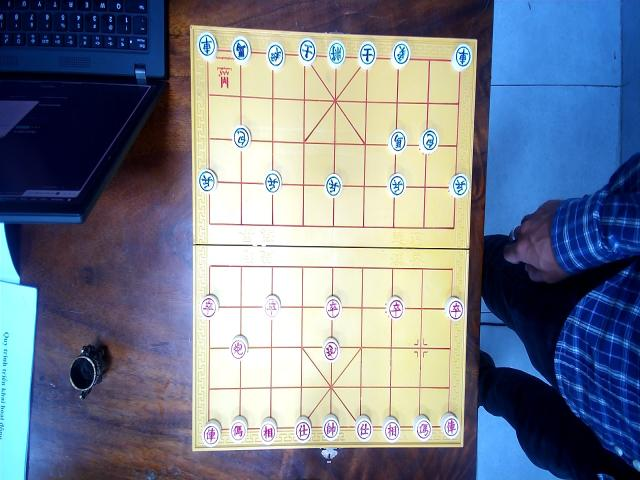piece: (196, 31, 218, 61), (451, 43, 473, 72), (231, 36, 251, 66), (448, 172, 470, 199), (326, 39, 346, 68), (390, 41, 410, 69), (357, 40, 377, 68), (266, 41, 285, 70), (202, 420, 222, 447), (440, 412, 460, 439), (229, 415, 248, 443), (444, 296, 464, 322), (412, 415, 432, 441), (419, 128, 439, 154), (387, 128, 407, 154), (382, 415, 401, 442), (299, 38, 317, 66), (197, 168, 217, 193), (354, 415, 373, 441), (322, 414, 340, 441), (294, 416, 312, 443), (200, 294, 219, 319), (260, 418, 278, 444), (322, 337, 340, 363), (386, 295, 404, 320), (387, 172, 405, 197), (232, 125, 250, 150), (324, 173, 342, 197), (324, 296, 342, 320), (230, 335, 248, 359), (264, 170, 280, 194), (264, 295, 280, 318)
